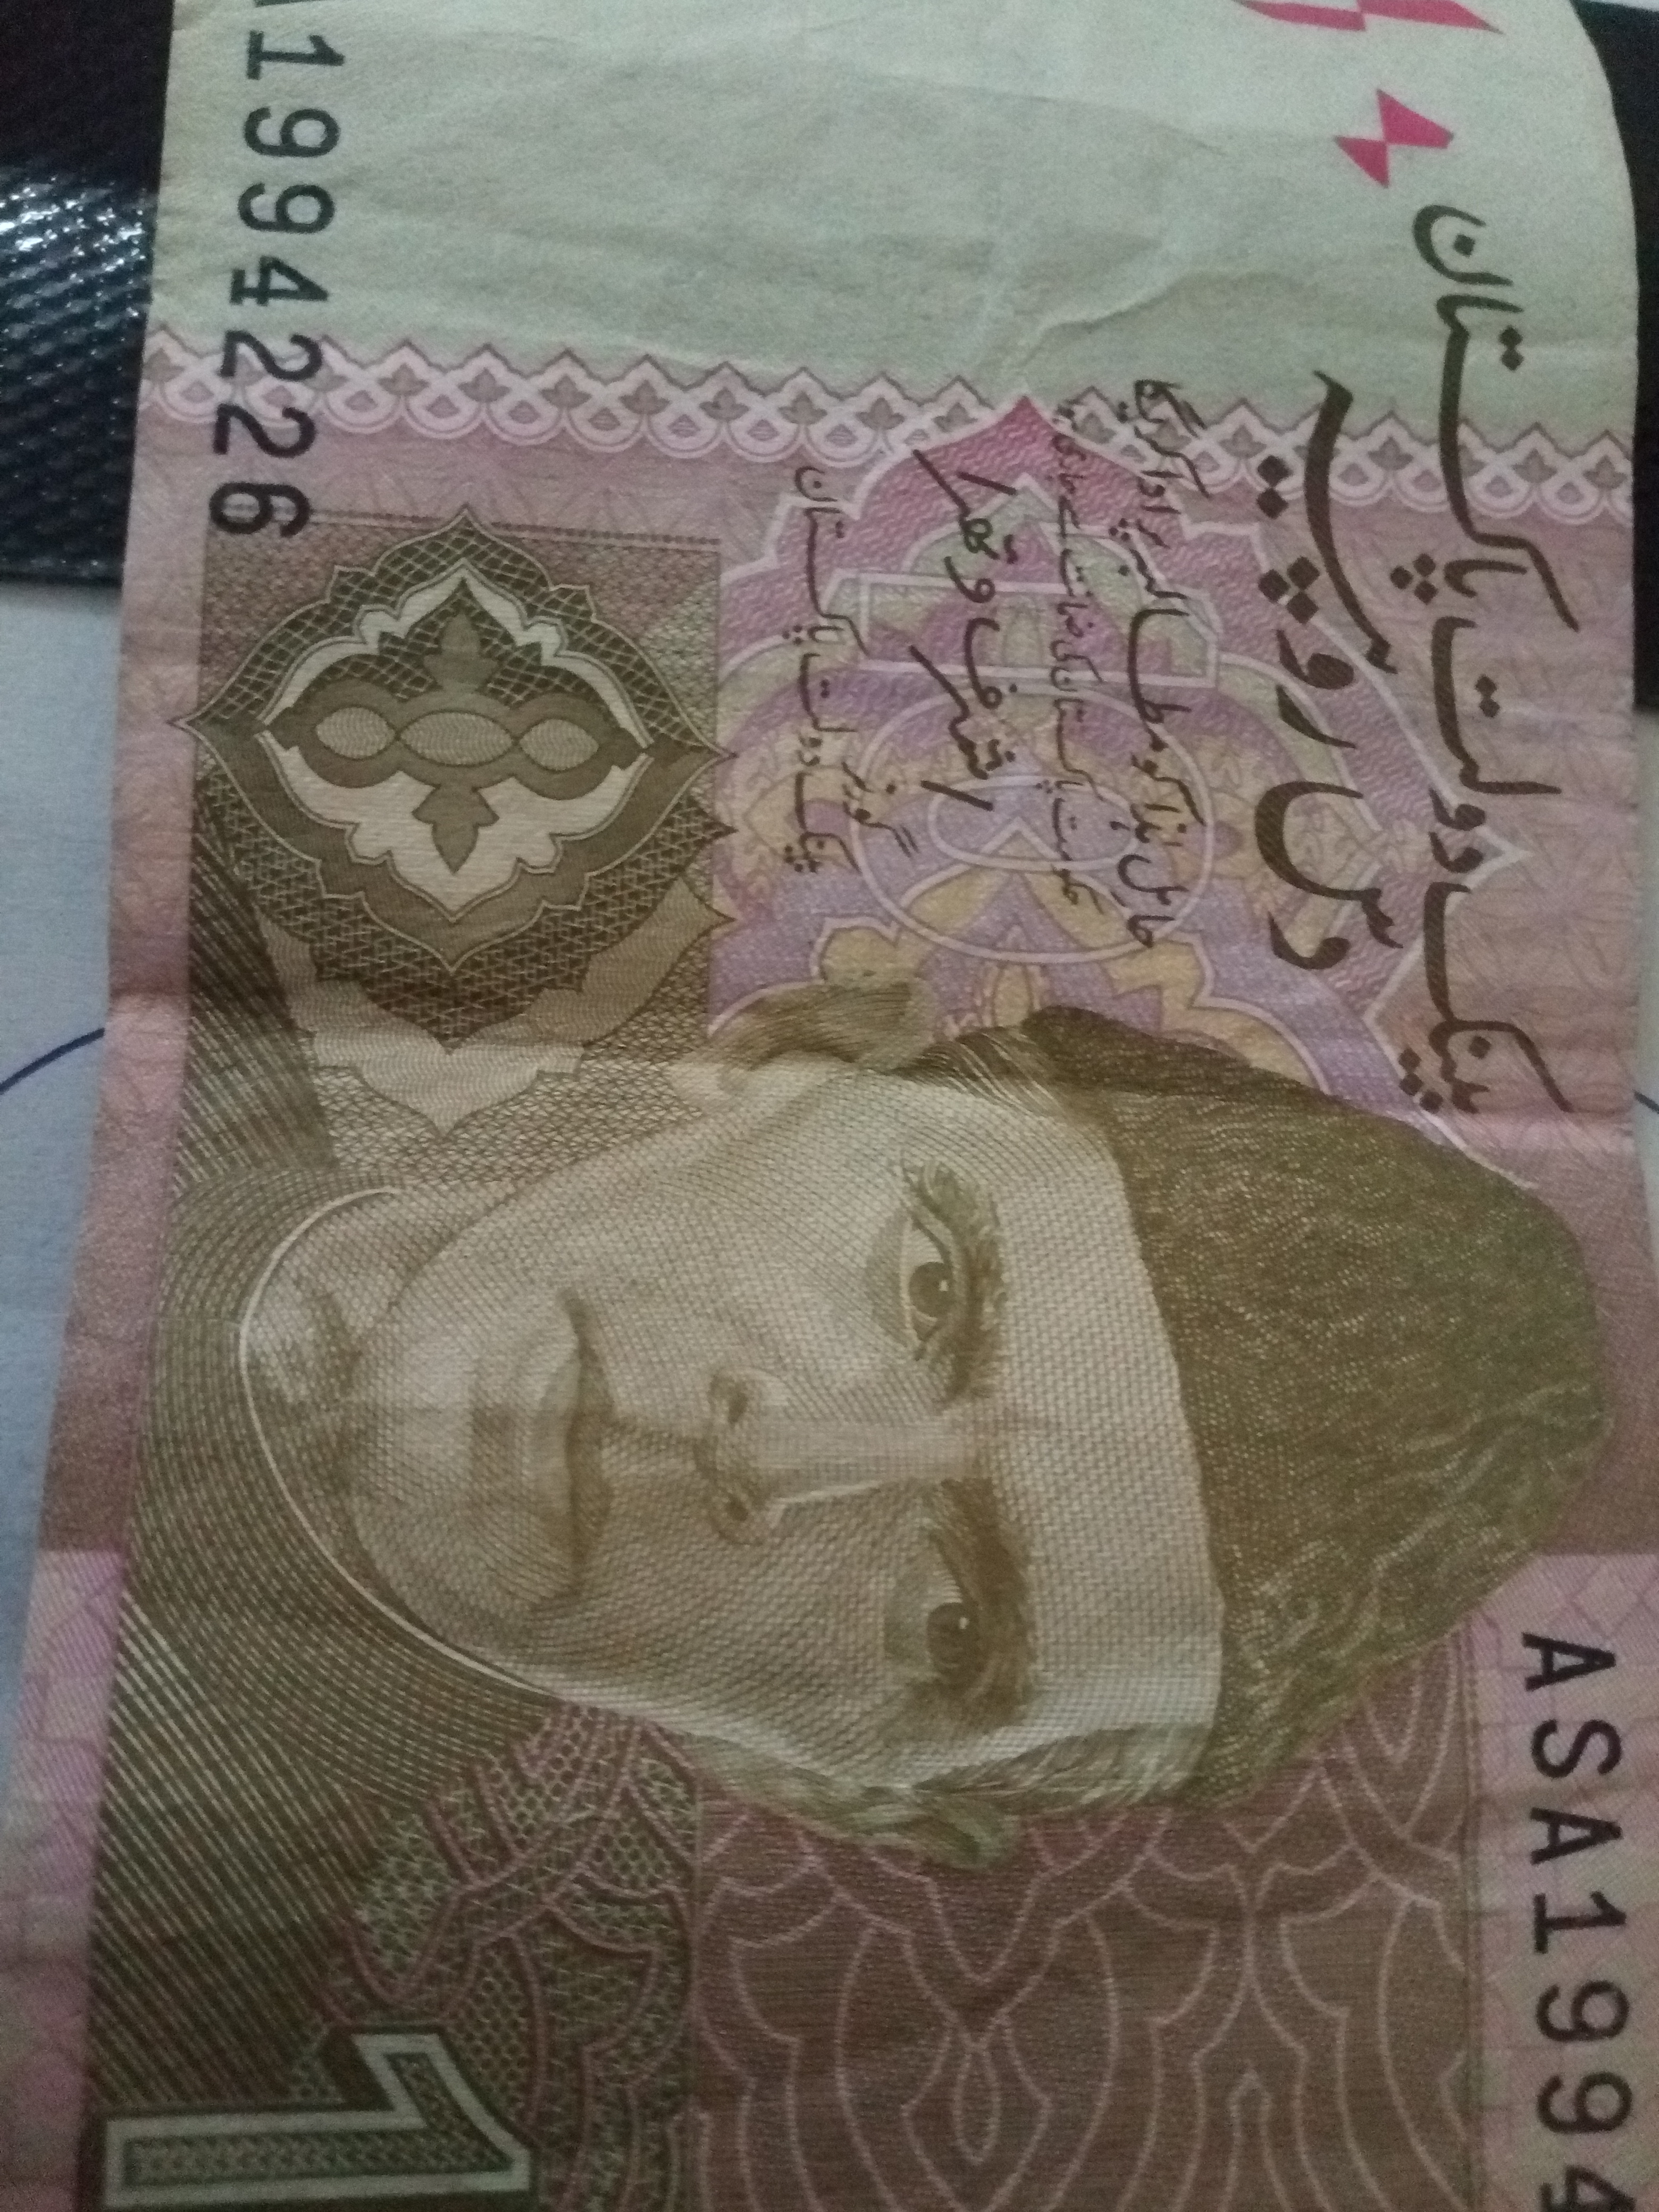10 rupee: (99, 42, 1657, 2212)
